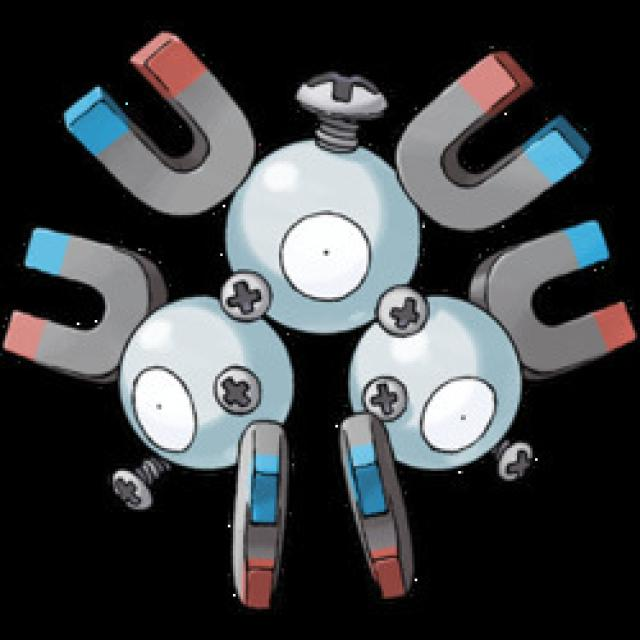Magneton: (59, 39, 570, 544)
